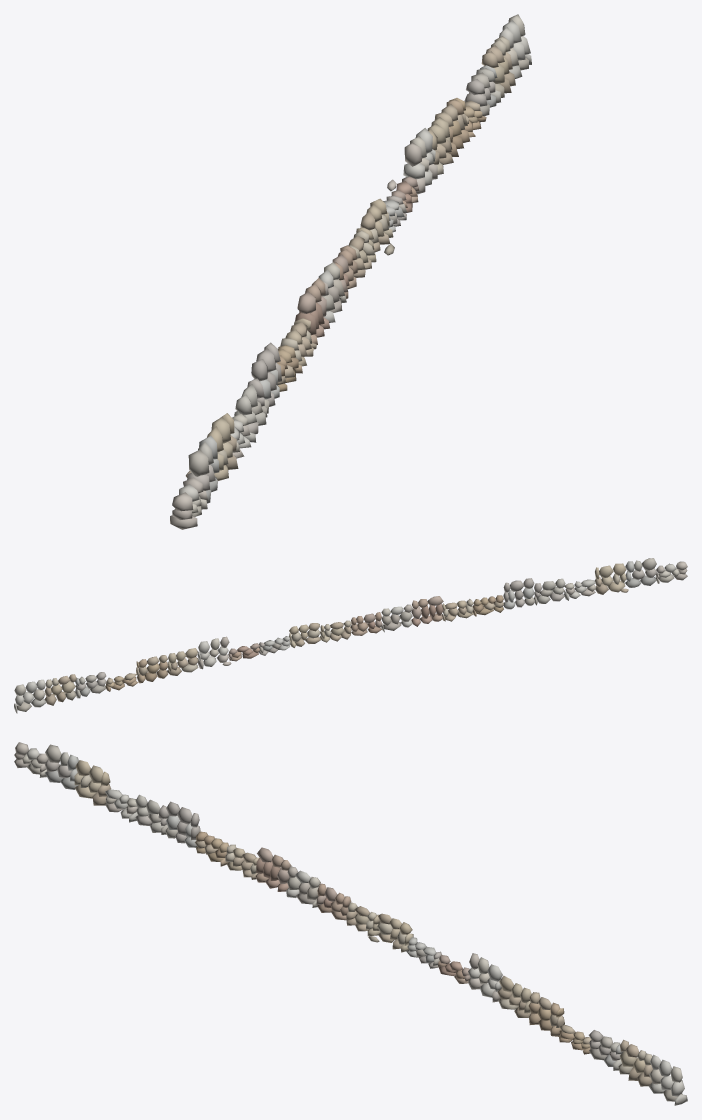
The model's file is farm_-30_-22_near.glb.
3 views of the same model, one above another, from view 1: azimuth 30°, elevation 25°; view 2: azimuth 150°, elevation 25°; view 3: azimuth 270°, elevation 25° (orthographic). The views are drawn at different scales.
Visible parts, largest first — view 1: geometry_0; view 2: geometry_0; view 3: geometry_0.
Boxes of the visible parts, box(x1,y1,x2,y2) form: geometry_0: box(170, 14, 531, 529); geometry_0: box(14, 558, 687, 713); geometry_0: box(14, 742, 687, 1105).
Size of the model in its own units: 24.67 by 4.23 by 25.49.
